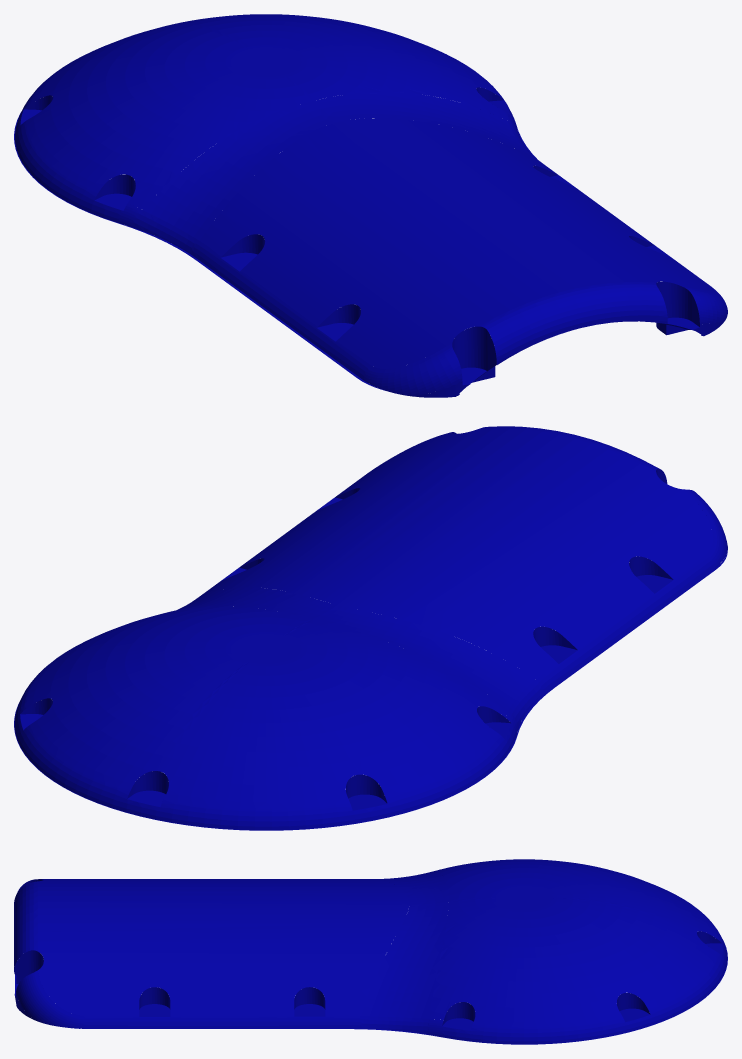
File: cover.dae
The picture shows the model from 3 angles, top to bottom: view 1: azimuth 30°, elevation 25°; view 2: azimuth 150°, elevation 25°; view 3: azimuth 270°, elevation 25°; orthographic projection. The views are drawn at different scales.
Parts seen in each view (by area): view 1: Cover; view 2: Cover; view 3: Cover.
Part boxes in pixels (x1=…): Cover: x1=14, y1=14, x2=727, y2=397; Cover: x1=14, y1=426, x2=727, y2=830; Cover: x1=14, y1=859, x2=727, y2=1044.
Bounding box in the file's own units: 0.171 × 0.2995 × 0.028.
